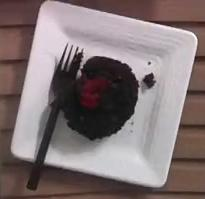dessert: (61, 56, 139, 140)
